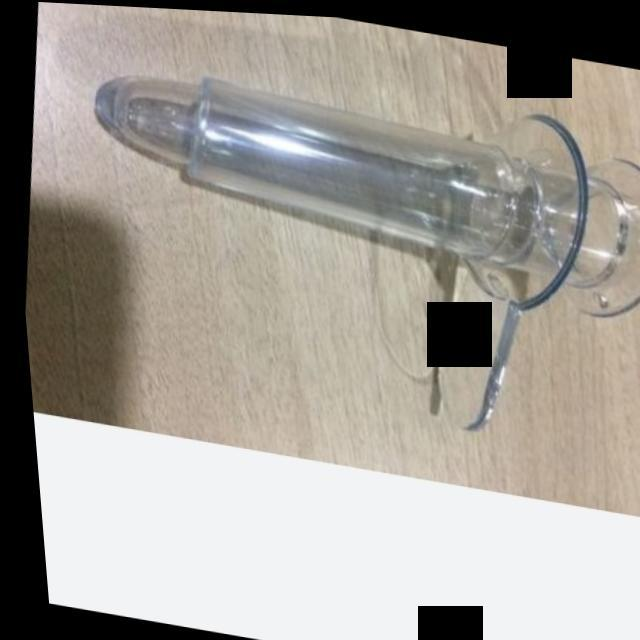Protoscope: (50, 22, 640, 460)
